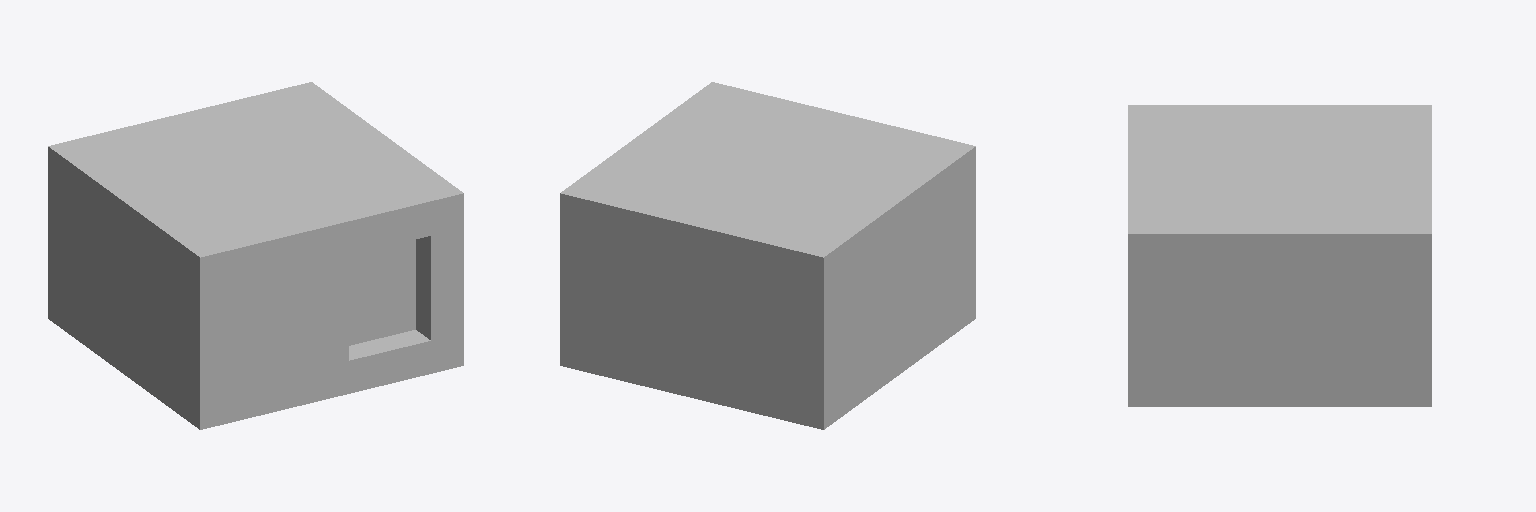
File: building-window-right.obj
3 renders of one model, left to right at view 1: azimuth 30°, elevation 25°; view 2: azimuth 150°, elevation 25°; view 3: azimuth 270°, elevation 25°, orthographic.
Visible parts, largest first — view 1: building-window-right; view 2: building-window-right; view 3: building-window-right.
Part boxes in pixels (bbox=[...]): building-window-right: bbox=[48, 82, 463, 429]; building-window-right: bbox=[560, 82, 975, 429]; building-window-right: bbox=[1128, 105, 1431, 406].
Size of the model in its own units: 1 by 0.625 by 1.